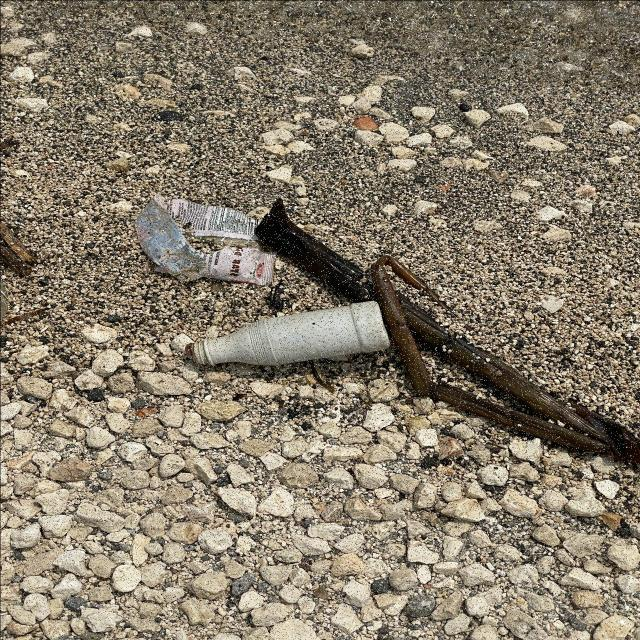plastic_waste: (193, 300, 392, 369), (134, 194, 278, 286)
